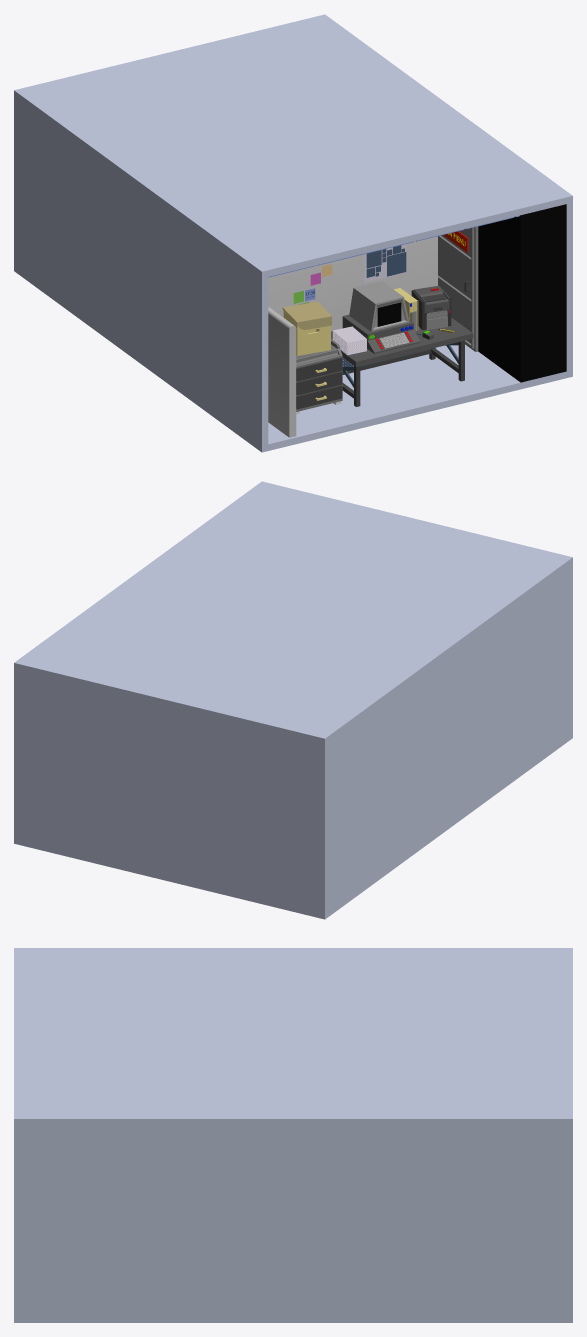
The model's file is office.glb.
The picture shows the model from 3 angles, top to bottom: view 1: azimuth 30°, elevation 25°; view 2: azimuth 150°, elevation 25°; view 3: azimuth 270°, elevation 25°; orthographic projection. The views are drawn at different scales.
Parts seen in each view (by area): view 1: Комната, Cube.008, Cube.018, Cube.044, Cube.028, Cube.020, Cube.010, Cube.011, Cube.029, Cube.026, Cube.027, Cube.030 (+4 smaller); view 2: Комната; view 3: Комната.
Boxes of the visible parts, bbox=[...] form: Комната: bbox=[14, 14, 572, 452]; Cube.008: bbox=[478, 204, 566, 382]; Cube.018: bbox=[268, 236, 437, 331]; Cube.044: bbox=[438, 226, 478, 351]; Cube.028: bbox=[268, 306, 296, 437]; Cube.020: bbox=[296, 357, 342, 409]; Cube.010: bbox=[349, 281, 409, 331]; Cube.011: bbox=[331, 317, 473, 366]; Cube.029: bbox=[342, 314, 420, 353]; Cube.026: bbox=[283, 311, 330, 355]; Cube.027: bbox=[282, 301, 331, 329]; Cube.030: bbox=[411, 285, 451, 330]; Комната: bbox=[14, 481, 572, 919]; Комната: bbox=[14, 948, 572, 1322].
Size of the model in its own units: 12.95 by 7.2 by 17.88.
